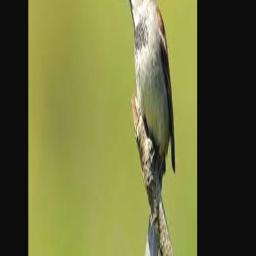Sparrow: (123, 0, 176, 256)
